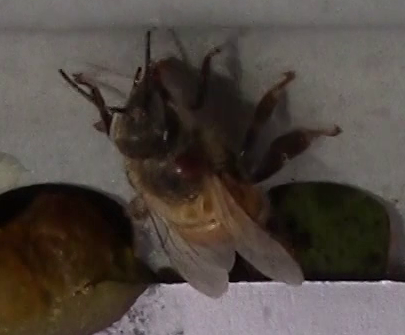Varroa destructor: (167, 149, 209, 184)
